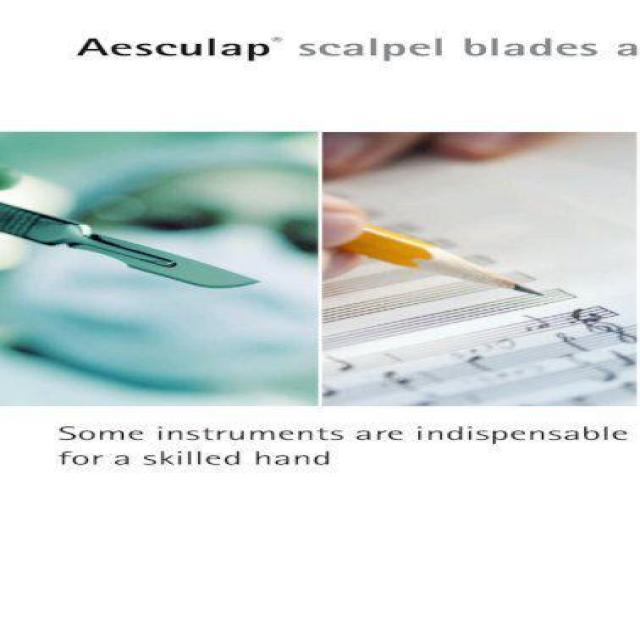B3: (0, 196, 262, 294)
